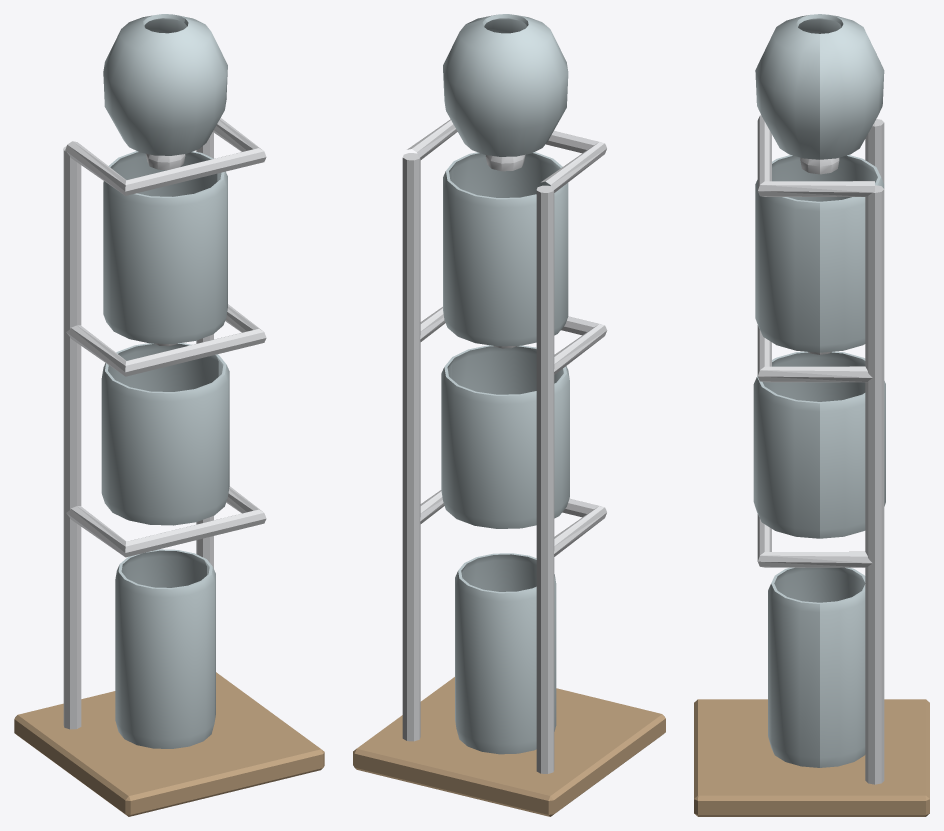
Rendered from bakery-and-cafe-cold-brew-tower-d7ebfdc9__22115.glb.
3 renders of one model, left to right at view 1: azimuth 30°, elevation 25°; view 2: azimuth 150°, elevation 25°; view 3: azimuth 270°, elevation 25°, orthographic. The views are drawn at different scales.
Parts seen in each view (by area): view 1: cold-brew-tower; view 2: cold-brew-tower; view 3: cold-brew-tower.
Part boxes in pixels (x1,y1,x2,y2): cold-brew-tower: [14, 14, 324, 816]; cold-brew-tower: [353, 14, 665, 816]; cold-brew-tower: [694, 14, 929, 816].
Bounding box in the file's own units: 0.3 × 1.04 × 0.3.
